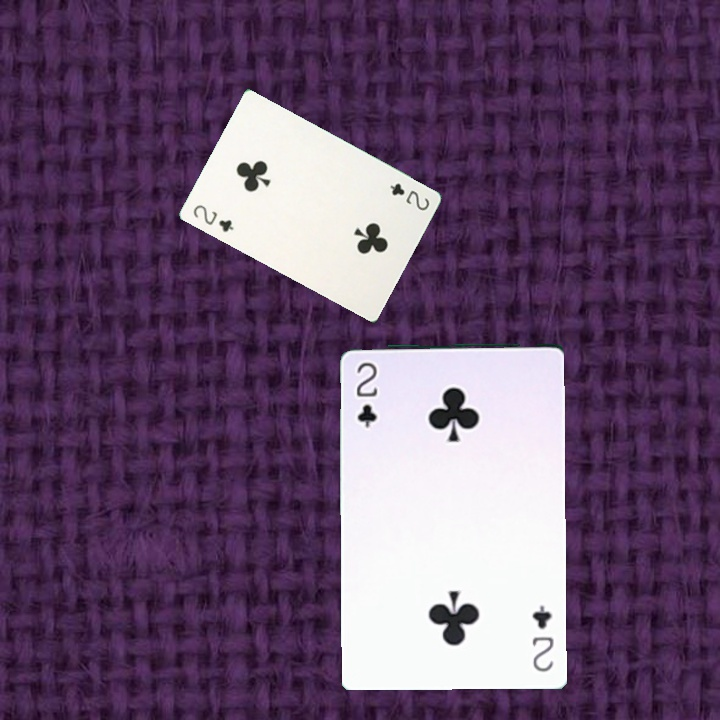2c: (528, 601, 556, 675), (352, 358, 380, 430), (189, 200, 236, 235), (386, 179, 432, 213)
